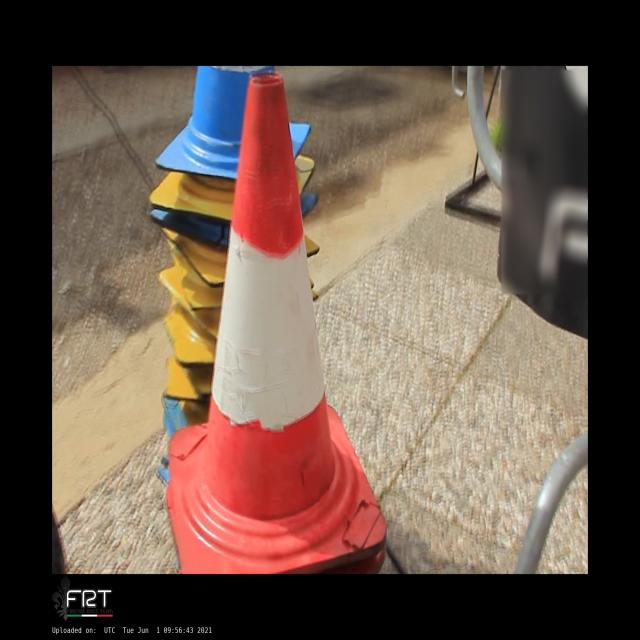blue_cone: (155, 68, 312, 180)
orange_cone: (169, 74, 386, 574)
